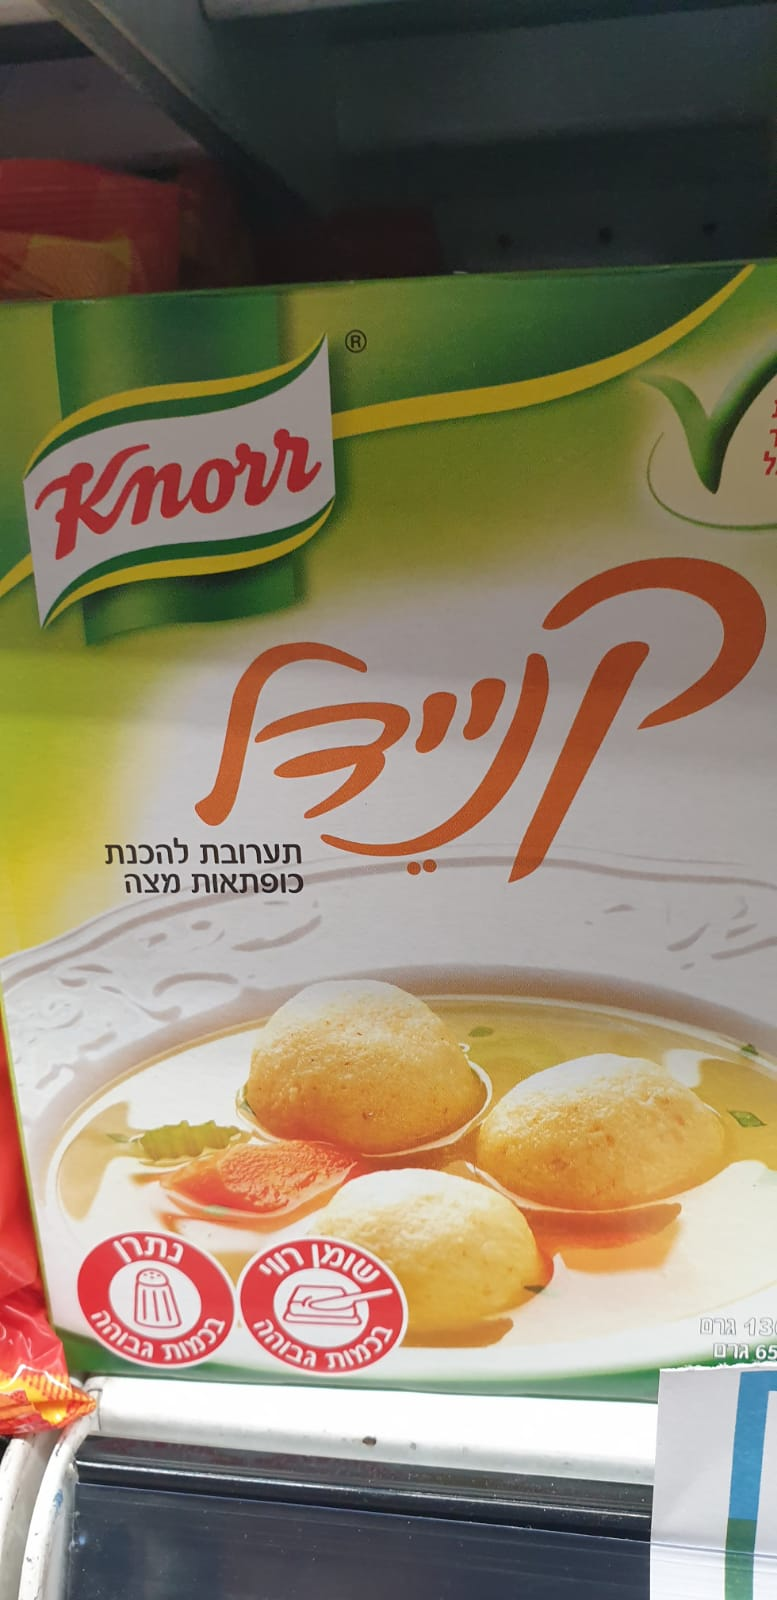fat: (237, 1241, 409, 1370)
salt: (75, 1230, 239, 1371)
